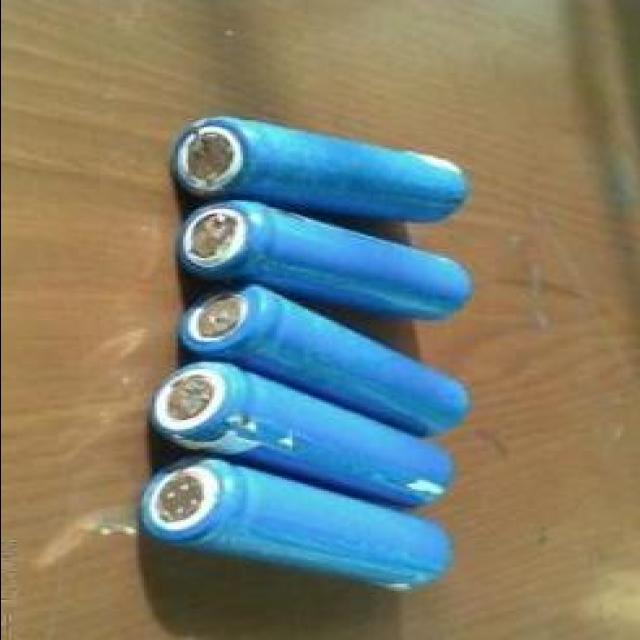-Hazardous waste - battery-: (154, 364, 460, 510), (190, 294, 475, 436), (154, 468, 453, 590), (175, 215, 467, 318), (172, 121, 476, 219)
